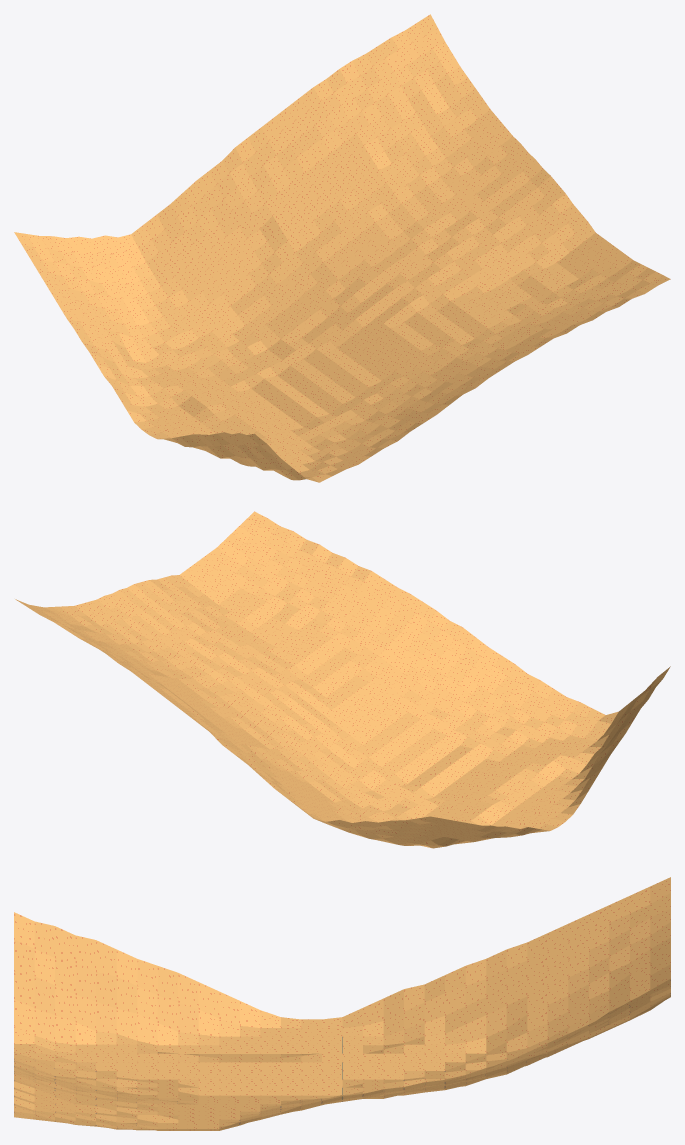
The model's file is map_chunked_033.gltf.
3 views of the same model, one above another, from view 1: azimuth 30°, elevation 25°; view 2: azimuth 150°, elevation 25°; view 3: azimuth 270°, elevation 25° (orthographic). The views are drawn at different scales.
Parts seen in each view (by area): view 1: map_chunked.033; view 2: map_chunked.033; view 3: map_chunked.033.
Boxes of the visible parts, x1=… form: map_chunked.033: x1=14, y1=14, x2=670, y2=482; map_chunked.033: x1=15, y1=511, x2=670, y2=848; map_chunked.033: x1=14, y1=877, x2=670, y2=1130.
Size of the model in its own units: 32 by 16.19 by 32.
1 material, 1 textured.
